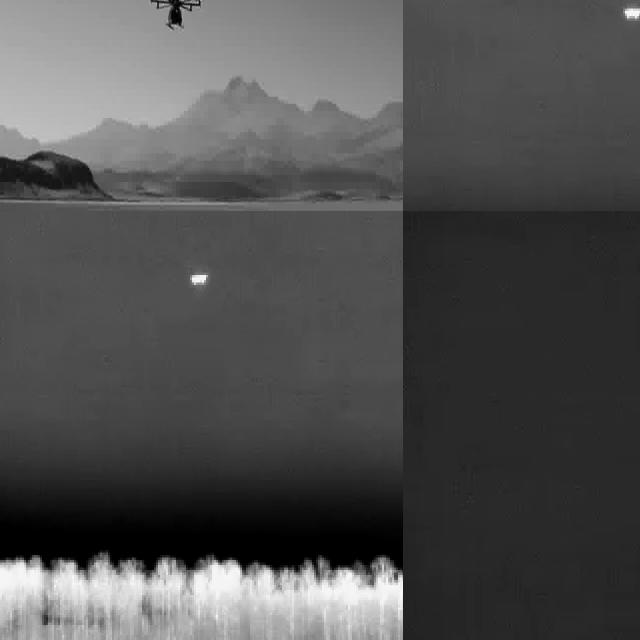1: (179, 268, 215, 300), (613, 2, 640, 32)
drone: (145, 0, 200, 35)
